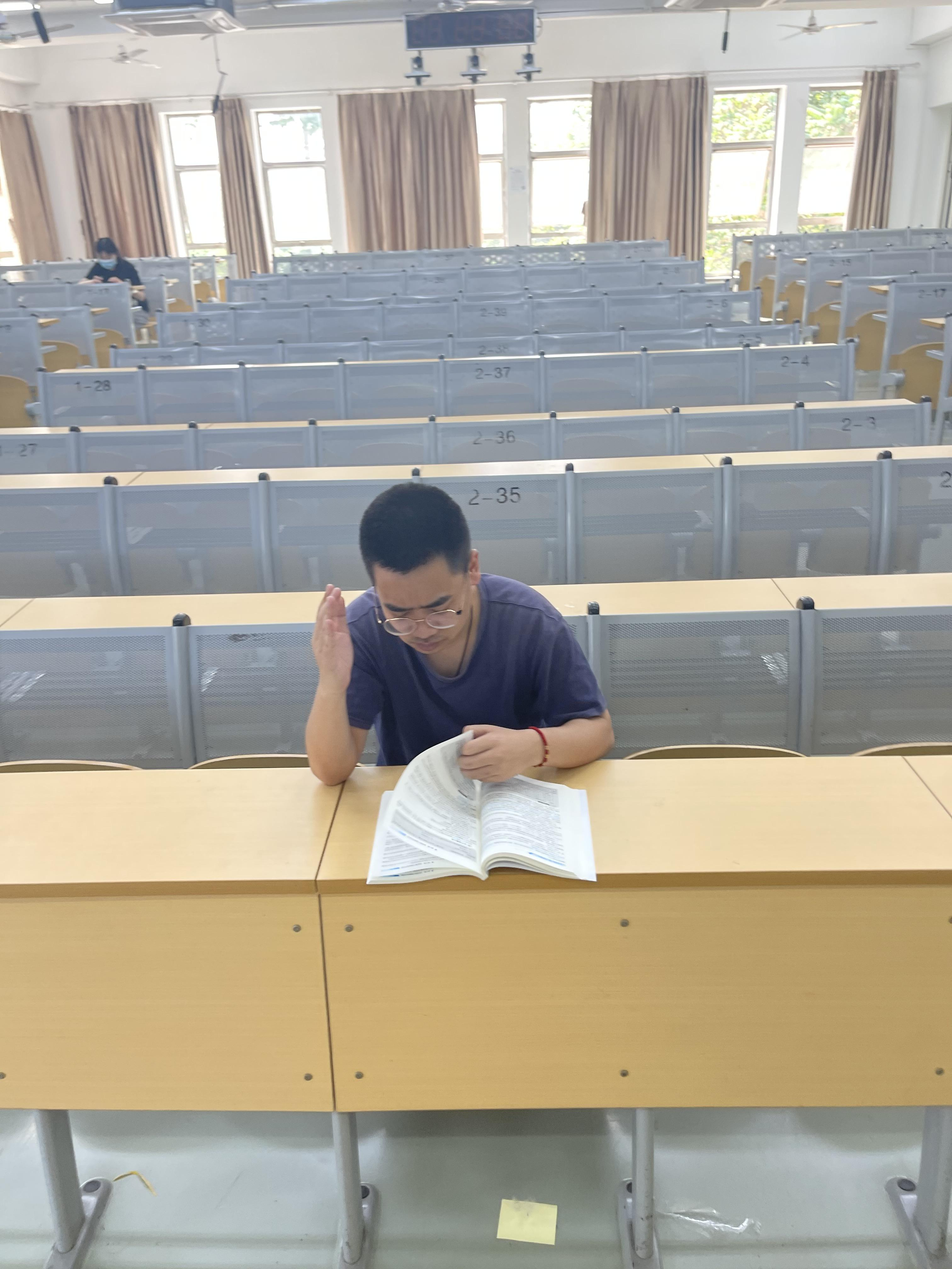study: (304, 476, 616, 878)
